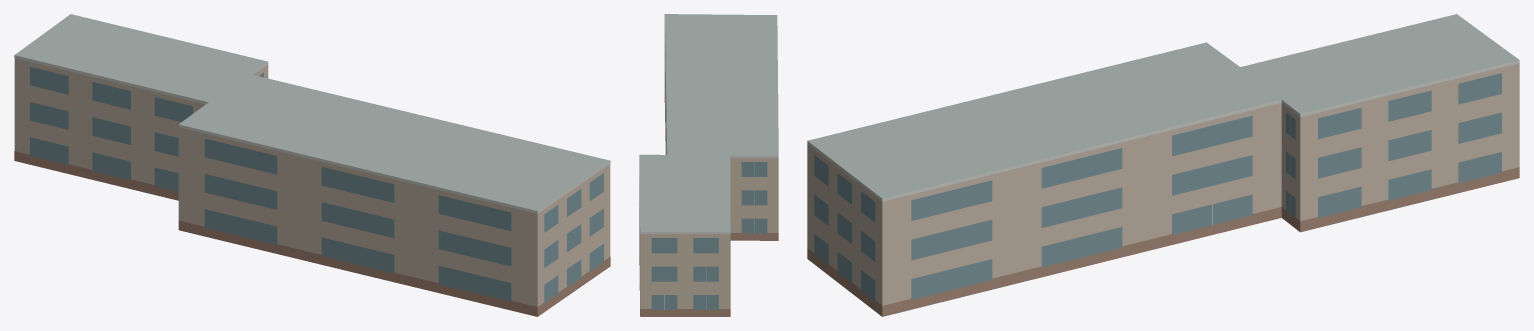
The model's file is survey-upis-32538254.glb.
3 renders of one model, left to right at view 1: azimuth 30°, elevation 25°; view 2: azimuth 150°, elevation 25°; view 3: azimuth 270°, elevation 25°, orthographic. The views are drawn at different scales.
Parts seen in each view (by area): view 1: survey-upis-32538254.tmp; view 2: survey-upis-32538254.tmp; view 3: survey-upis-32538254.tmp.
Boxes of the visible parts, box(x1,y1,x2,y2) form: survey-upis-32538254.tmp: box(14, 14, 610, 316); survey-upis-32538254.tmp: box(639, 14, 778, 316); survey-upis-32538254.tmp: box(807, 14, 1519, 316).
Bounding box in the file's own units: 30.68 × 9.15 × 49.97.
